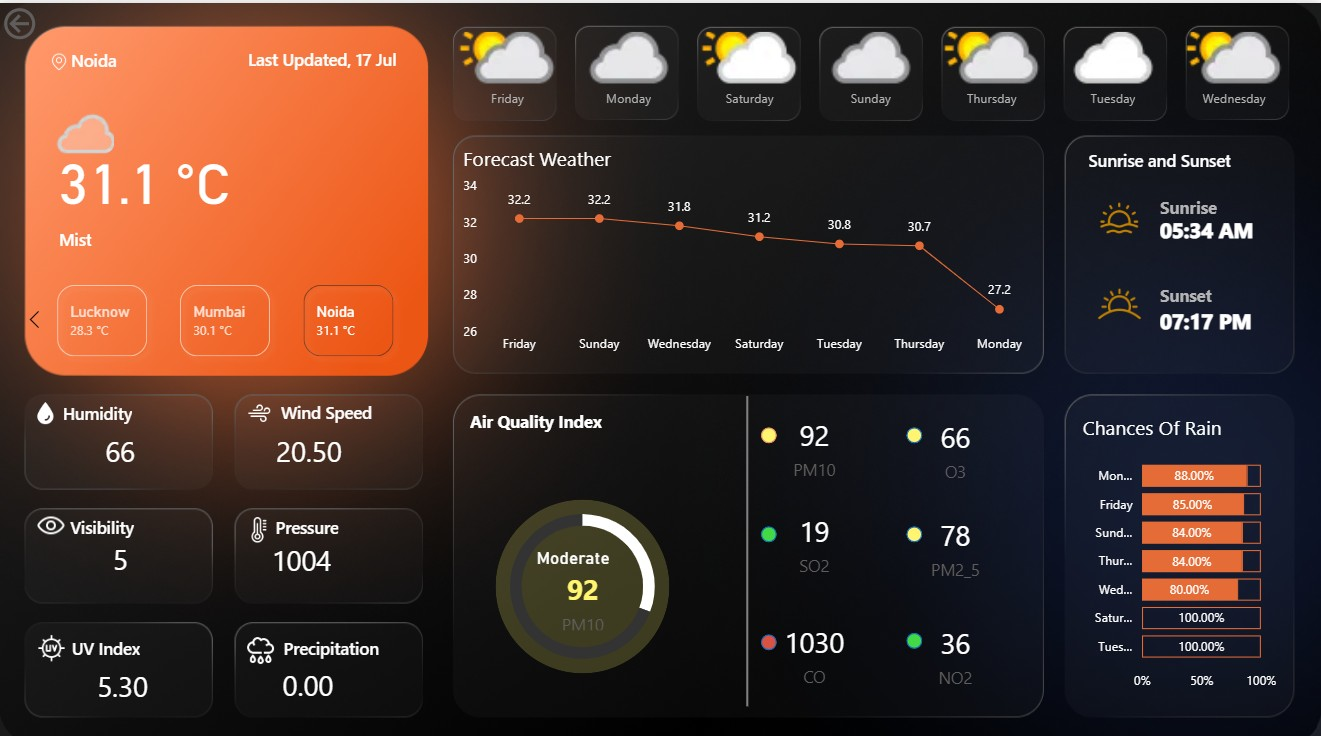

Layout of this report page (visuals, bound fields, positions):
{"tool":"powerbi","page":{"name":"Page 1","canvas":[1280,720],"ordinal":0},"visuals":[{"type":"advancedSlicerVisual","fields":{"Values":["Locations.location.name"]},"box":[18.9,255.1,400.6,103.9],"z":0},{"type":"shape","box":[58.6,198.4,202.2,58.6],"z":1000},{"type":"shape","box":[69.9,26.5,149.3,58.6],"z":2000},{"type":"image","box":[34,43.5,49.1,26.5],"z":3000},{"type":"actionButton","box":[0,0,100,40],"z":4000},{"type":"cardVisual","fields":{"Data":["Min(Current.current.condition.icon)"]},"box":[22.7,69.7,93.9,81.8],"z":5000},{"type":"image","box":[18.2,484.5,62.1,40.9],"z":6000},{"type":"shape","box":[40.9,490.6,118.1,30.3],"z":7000},{"type":"image","box":[18.2,380.1,51.5,33.3],"z":8000},{"type":"shape","box":[40.9,380.1,109,33.3],"z":9000},{"type":"image","box":[219.6,380.1,65.1,33.3],"z":10000},{"type":"shape","box":[272.6,380.1,131.7,30.3],"z":11000},{"type":"image","box":[219.6,490.6,65.1,34.8],"z":12000},{"type":"shape","box":[233.2,493.6,128.7,24.2],"z":13000},{"type":"image","box":[21.2,604.2,57.5,37.9],"z":14000},{"type":"shape","box":[43.9,604.2,119.6,37.9],"z":15000},{"type":"image","box":[201.4,604.2,103,42.4],"z":16000},{"type":"shape","box":[254.4,604.2,131.7,37.9],"z":17000},{"type":"card","fields":{"Values":["Sum(Current.current.humidity)"]},"box":[66.6,410.3,99.9,46.9],"z":18000},{"type":"card","fields":{"Values":["Sum(Current.current.vis_km)"]},"box":[92.4,517.9,48.5,40.9],"z":19000},{"type":"card","fields":{"Values":["Sum(Current.current.uv)"]},"box":[81.8,637.5,75.7,46.9],"z":20000},{"type":"card","fields":{"Values":["Sum(Current.current.wind_kph)"]},"box":[254.4,410.3,87.8,46.9],"z":21000},{"type":"card","fields":{"Values":["Sum(Current.current.pressure_mb)"]},"box":[245.3,501.2,93.9,75.7],"z":22000},{"type":"card","fields":{"Values":["Sum(Current.current.precip_mm)"]},"box":[222.6,623.9,149.9,74.2],"z":23000},{"type":"advancedSlicerVisual","fields":{"Values":["Forecast_Day.Day_Name"]},"box":[431.5,21.2,825.2,116.6],"z":24000},{"type":"lineChart","title":"Forecast Weather","fields":{"Category":["Forecast_Day.Day_Name"],"Y":["Sum(Forecast_Day.forecast.forecastday.day.avgtemp_c)"]},"box":[443.7,137.8,558.7,209],"z":25000},{"type":"shape","box":[1041.8,134.8,159,33.3],"z":26000},{"type":"shape","box":[1122,184.7,107.5,69.7],"z":27000},{"type":"shape","box":[1122,272.6,139.3,69.7],"z":28000},{"type":"shape","box":[1122,177.2,107.5,40.9],"z":29000},{"type":"shape","box":[1122,254.4,116.6,53],"z":30000},{"type":"image","box":[1041.8,184.7,80.3,46.9],"z":31000},{"type":"image","box":[1049.3,257.4,66.6,65.1],"z":32000},{"type":"hundredPercentStackedBarChart","title":"Chances Of Rain","fields":{"Y":["Sum(Forecast_Day.forecast.forecastday.day.daily_chance_of_rain)","Current.Left_Value_Rain"],"Category":["Forecast_Day.Day_Name"]},"box":[1041.8,396.7,196.8,275.6],"z":33000},{"type":"shape","box":[455.8,384.6,159,39.4],"z":34000},{"type":"card","fields":{"Values":["Sum(Current.current.air_quality.o3)"]},"box":[844.9,389.2,157.5,81.8],"z":35000},{"type":"card","fields":{"Values":["Sum(Current.current.air_quality.pm2_5)"]},"box":[844.9,483,157.5,86.3],"z":36000},{"type":"card","fields":{"Values":["Sum(Current.current.air_quality.no2)"]},"box":[844.9,587.5,157.5,86.3],"z":37000},{"type":"card","fields":{"Values":["Sum(Current.current.air_quality.pm10)"]},"box":[708.6,386.1,157.5,86.3],"z":38000},{"type":"card","fields":{"Values":["Sum(Current.current.air_quality.so2)"]},"box":[708.6,478.5,157.5,86.3],"z":39000},{"type":"card","fields":{"Values":["Sum(Current.current.condition.code)"]},"box":[708.6,586,157.5,86.3],"z":40000},{"type":"card","fields":{"Values":["_Measures.Curr_Temp_C"]},"box":[30.3,110.5,219.6,115.1],"z":41000},{"type":"shape","box":[240.8,39.4,159,30.3],"z":42000},{"type":"shape","box":[735.9,410.3,15.1,15.1],"z":43000},{"type":"shape","box":[735.9,505.7,15.1,15.1],"z":44000},{"type":"shape","box":[735.9,610.2,15.1,15.1],"z":45000},{"type":"shape","box":[876.7,410.3,15.1,15.1],"z":46000},{"type":"shape","box":[876.7,505.7,15.1,15.1],"z":47000},{"type":"shape","box":[876.7,608.7,15.1,15.1],"z":48000},{"type":"shape","box":[643.5,380.1,159,299.8],"z":49000},{"type":"shape","box":[480,480,168.1,168.1],"z":49500},{"type":"donutChart","fields":{"Y":["Sum(Current.current.air_quality.pm10)","_Measures.Left_value_PM10"]},"box":[439.1,470.9,248.3,184.7],"z":50000},{"type":"card","fields":{"Values":["Sum(Current.current.air_quality.pm10)"]},"box":[514.8,525.4,98.4,84.8],"z":52000}]}

Visuals, with their boxes in screenshot pixels (x1, y1, x2, y2), scaled from the page's 1280x720 canvas onto the 1321x736 screenshot:
advancedSlicerVisual - Locations.location.name: x1=20, y1=261, x2=433, y2=367
shape: x1=60, y1=203, x2=269, y2=263
shape: x1=72, y1=27, x2=226, y2=87
image: x1=35, y1=44, x2=86, y2=72
actionButton: x1=0, y1=0, x2=103, y2=41
cardVisual - Min(Current.current.condition.icon): x1=23, y1=71, x2=120, y2=155
image: x1=19, y1=495, x2=83, y2=537
shape: x1=42, y1=502, x2=164, y2=532
image: x1=19, y1=389, x2=72, y2=423
shape: x1=42, y1=389, x2=155, y2=423
image: x1=227, y1=389, x2=294, y2=423
shape: x1=281, y1=389, x2=417, y2=420
image: x1=227, y1=502, x2=294, y2=537
shape: x1=241, y1=505, x2=373, y2=529
image: x1=22, y1=618, x2=81, y2=656
shape: x1=45, y1=618, x2=169, y2=656
image: x1=208, y1=618, x2=314, y2=661
shape: x1=263, y1=618, x2=398, y2=656
card - Sum(Current.current.humidity): x1=69, y1=419, x2=172, y2=467
card - Sum(Current.current.vis_km): x1=95, y1=529, x2=145, y2=571
card - Sum(Current.current.uv): x1=84, y1=652, x2=163, y2=700
card - Sum(Current.current.wind_kph): x1=263, y1=419, x2=353, y2=467
card - Sum(Current.current.pressure_mb): x1=253, y1=512, x2=350, y2=590
card - Sum(Current.current.precip_mm): x1=230, y1=638, x2=384, y2=714
advancedSlicerVisual - Forecast_Day.Day_Name: x1=445, y1=22, x2=1297, y2=141
"Forecast Weather" lineChart: x1=458, y1=141, x2=1035, y2=355
shape: x1=1075, y1=138, x2=1239, y2=172
shape: x1=1158, y1=189, x2=1269, y2=260
shape: x1=1158, y1=279, x2=1302, y2=350
shape: x1=1158, y1=181, x2=1269, y2=223
shape: x1=1158, y1=260, x2=1278, y2=314
image: x1=1075, y1=189, x2=1158, y2=237
image: x1=1083, y1=263, x2=1152, y2=330
"Chances Of Rain" hundredPercentStackedBarChart: x1=1075, y1=406, x2=1278, y2=687
shape: x1=470, y1=393, x2=634, y2=433
card - Sum(Current.current.air_quality.o3): x1=872, y1=398, x2=1035, y2=481
card - Sum(Current.current.air_quality.pm2_5): x1=872, y1=494, x2=1035, y2=582
card - Sum(Current.current.air_quality.no2): x1=872, y1=601, x2=1035, y2=689
card - Sum(Current.current.air_quality.pm10): x1=731, y1=395, x2=894, y2=483
card - Sum(Current.current.air_quality.so2): x1=731, y1=489, x2=894, y2=577
card - Sum(Current.current.condition.code): x1=731, y1=599, x2=894, y2=687
card - _Measures.Curr_Temp_C: x1=31, y1=113, x2=258, y2=231
shape: x1=249, y1=40, x2=413, y2=71
shape: x1=759, y1=419, x2=775, y2=435
shape: x1=759, y1=517, x2=775, y2=532
shape: x1=759, y1=624, x2=775, y2=639
shape: x1=905, y1=419, x2=920, y2=435
shape: x1=905, y1=517, x2=920, y2=532
shape: x1=905, y1=622, x2=920, y2=638
shape: x1=664, y1=389, x2=828, y2=695
shape: x1=495, y1=491, x2=669, y2=663
donutChart - Sum(Current.current.air_quality.pm10) x _Measures.Left_value_PM10: x1=453, y1=481, x2=709, y2=670
card - Sum(Current.current.air_quality.pm10): x1=531, y1=537, x2=633, y2=624
